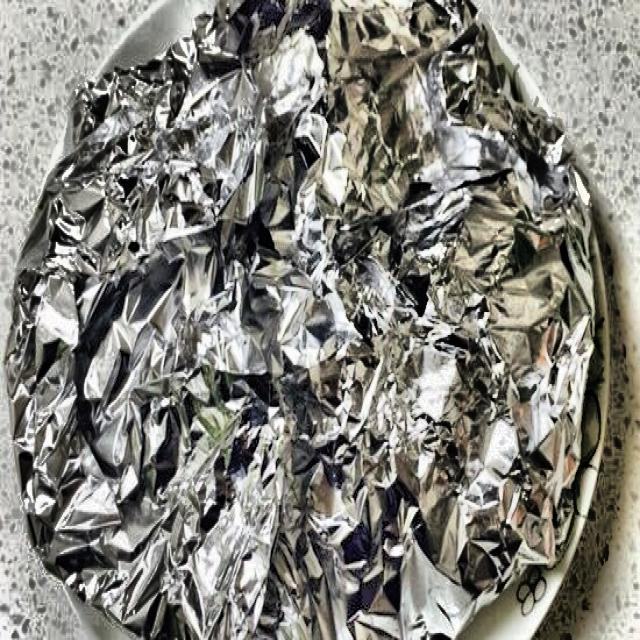Foil: (1, 0, 600, 640)
